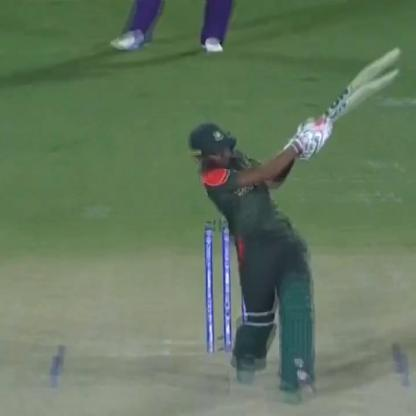bat: (284, 43, 404, 161)
